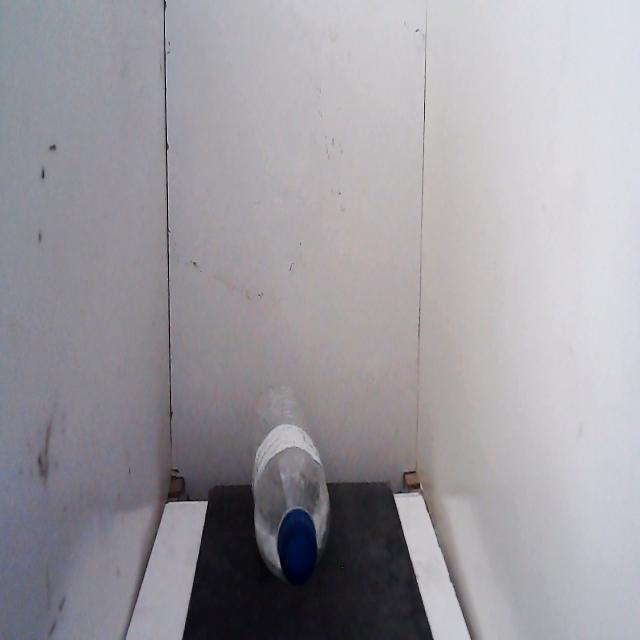plastico: (246, 408, 336, 595)
